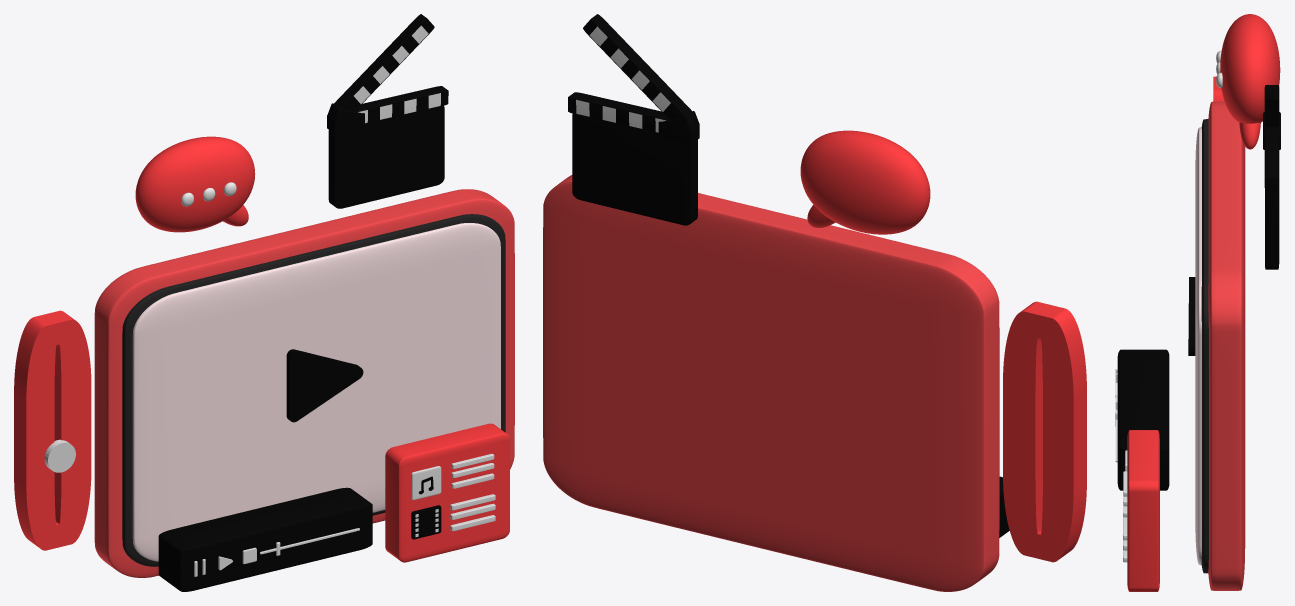
File: graphic-design-assets (3).glb
3 renders of one model, left to right at view 1: azimuth 30°, elevation 25°; view 2: azimuth 150°, elevation 25°; view 3: azimuth 270°, elevation 25°, orthographic. The views are drawn at different scales.
Parts seen in each view (by area): view 1: Cube.002, Cube, Cube.006, Cube.004, Cube.012, Cube.017, Cube.019, Cube.001, Cube.003, Cube.024, Cube.023, Cube.016 (+5 smaller); view 2: Cube, Cube.006, Cube.019, Cube.017, Cube.024, Cube.023, Cube.025; view 3: Cube, Cube.019, Cube.004, Cube.012, Cube.001, Cube.002, Cube.017, Cube.023, Cube.024, Cube.003.
Boxes of the visible parts, x1,y1,x2,y2 form: Cube.002: (132,223,500,561); Cube: (94,189,514,577); Cube.006: (14,310,91,550); Cube.004: (158,487,372,591); Cube.012: (385,423,509,562); Cube.017: (328,106,444,208); Cube.019: (135,136,255,232); Cube.001: (122,214,505,566); Cube.003: (286,349,363,422); Cube.024: (331,14,434,111); Cube.023: (329,86,448,123); Cube.016: (450,494,495,531); Cube: (543,175,999,591); Cube.006: (1003,301,1086,562); Cube.019: (800,130,930,234); Cube.017: (572,113,697,225); Cube.024: (583,14,695,120); Cube.023: (568,92,697,133); Cube.025: (658,111,699,144); Cube: (1208,101,1245,590); Cube.019: (1220,14,1280,149); Cube.004: (1117,349,1169,490); Cube.012: (1127,430,1159,591); Cube.001: (1201,119,1208,573); Cube.002: (1195,127,1201,565); Cube.017: (1265,190,1279,269); Cube.023: (1264,127,1279,191); Cube.024: (1264,85,1279,127); Cube.003: (1188,277,1195,355).
Bounding box in the file's own units: 3.4 × 3.17 × 0.9528.
